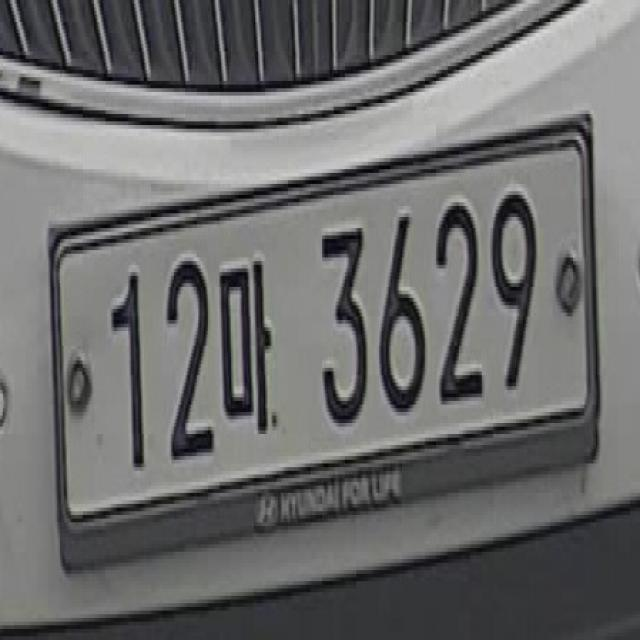1: (110, 253, 148, 490)
2: (435, 176, 486, 413), (164, 238, 214, 474)
3: (314, 205, 370, 440)
6: (378, 198, 430, 428)
9: (489, 170, 542, 402)
license_plate: (45, 105, 604, 583)
ma: (219, 224, 272, 459)
